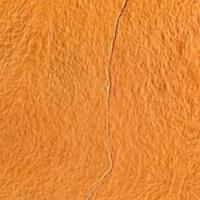crack: (93, 0, 146, 171)
